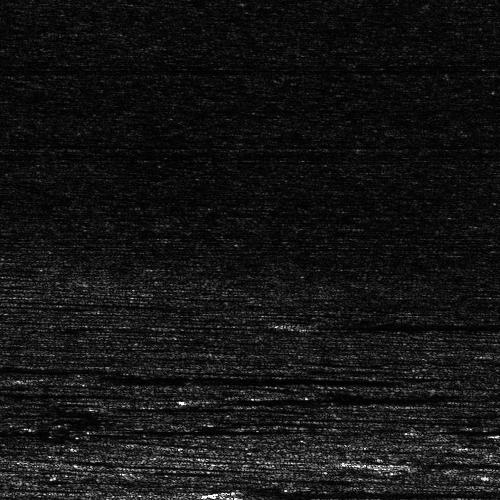rock: (224, 318, 401, 331), (6, 371, 141, 384), (184, 484, 299, 497), (363, 459, 456, 468), (188, 396, 241, 401), (80, 428, 121, 431)
shadow: (74, 371, 336, 384), (242, 484, 500, 497), (313, 318, 500, 331), (0, 359, 123, 372), (215, 396, 419, 401), (410, 459, 500, 468), (101, 428, 236, 431), (0, 446, 17, 455)
